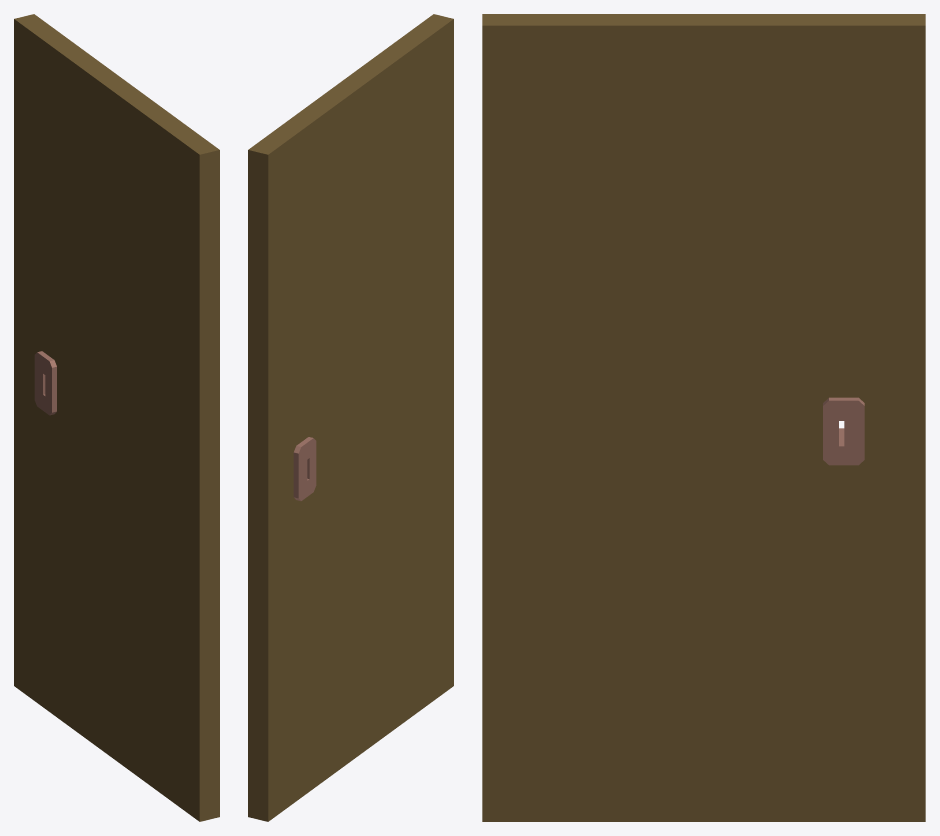
The model's file is Door.fbx.
3 renders of one model, left to right at view 1: azimuth 30°, elevation 25°; view 2: azimuth 150°, elevation 25°; view 3: azimuth 270°, elevation 25°, orthographic. The views are drawn at different scales.
Parts seen in each view (by area): view 1: Door, Cube; view 2: Door, Cube; view 3: Door, Cube.
Part boxes in pixels (box(x1,y1,x2,y2)): Door: box(14, 14, 219, 821); Cube: box(34, 351, 56, 415); Door: box(248, 14, 453, 821); Cube: box(293, 437, 316, 500); Door: box(482, 14, 925, 821); Cube: box(823, 397, 864, 465).
Size of the model in its own units: 0.1 by 2.1 by 1.06.
